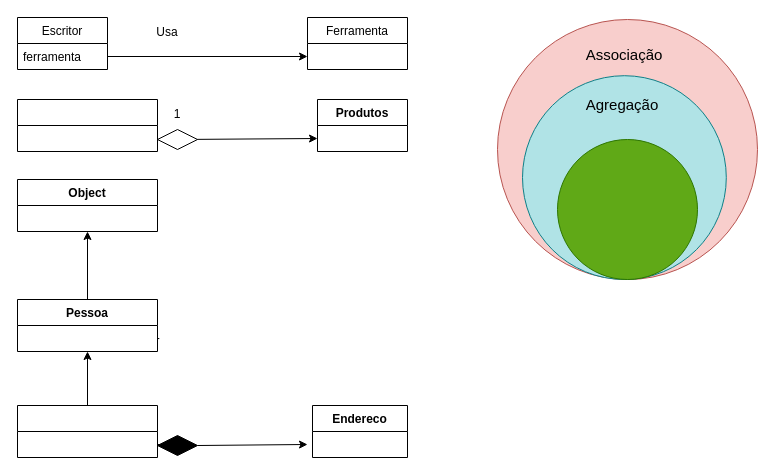
This 775x475 diagram has some shape labels left out. Here are the shapes that lost their labels. From the top down, the centre of each, then its label:
At (87,125): "CarrinhoDeCompras".
At (627,209): "Composição".
At (87,431): "Cliente".
